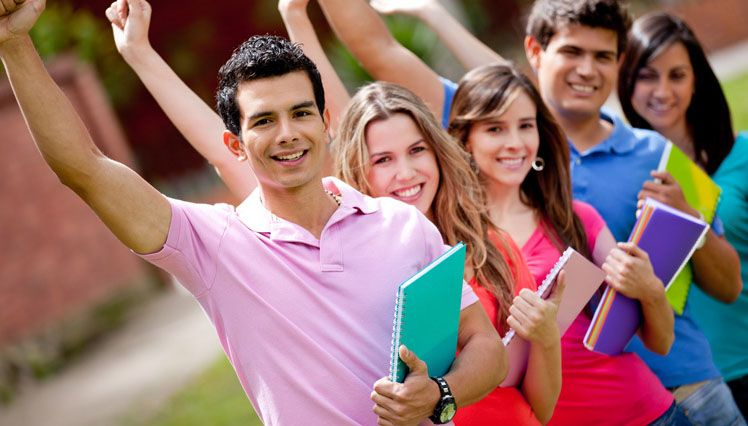Person: (162, 65, 351, 426), (632, 5, 748, 402), (532, 13, 632, 398), (355, 105, 462, 409), (462, 54, 551, 409)
